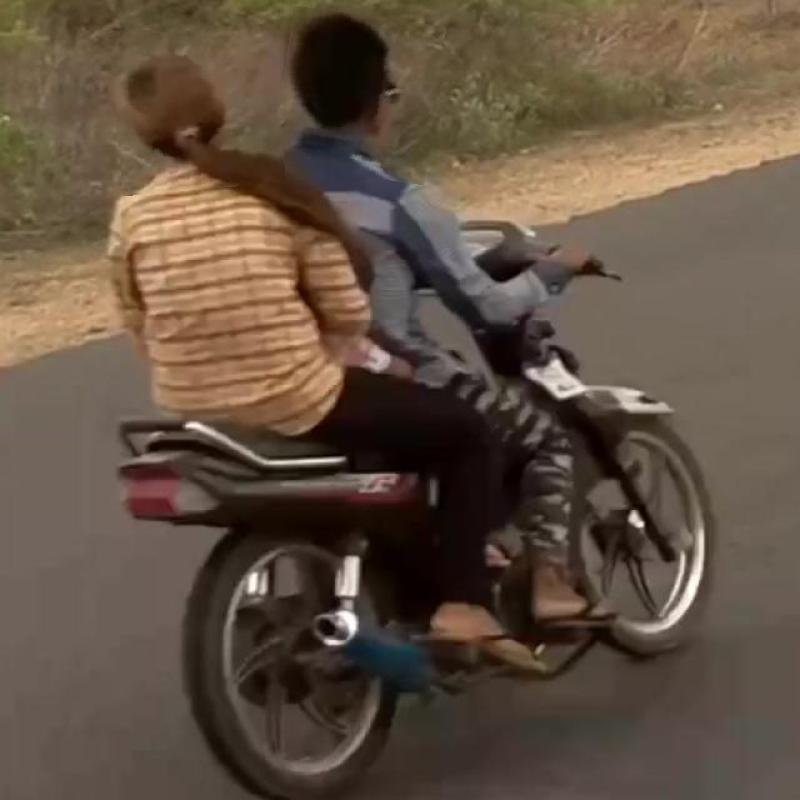nohelmet: (112, 27, 284, 194), (277, 10, 441, 180)
